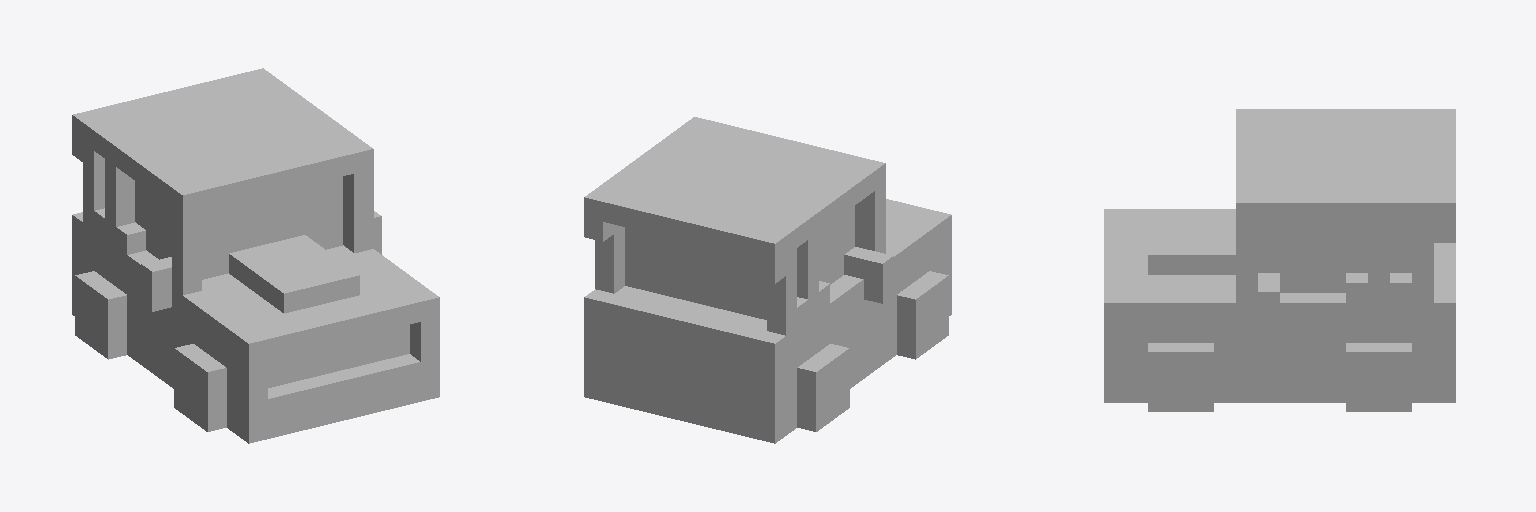
File: Voxel Design (Cars)-9.obj
3 views of the same model, side by side, from view 1: azimuth 30°, elevation 25°; view 2: azimuth 150°, elevation 25°; view 3: azimuth 270°, elevation 25° (orthographic).
Visible parts, largest first — view 1: object 1; view 2: object 1; view 3: object 1.
Part boxes in pixels (bbox=[...]): object 1: bbox=[72, 68, 439, 443]; object 1: bbox=[584, 117, 951, 443]; object 1: bbox=[1104, 109, 1455, 411].
Size of the model in its own units: 1.2 by 1 by 1.6.